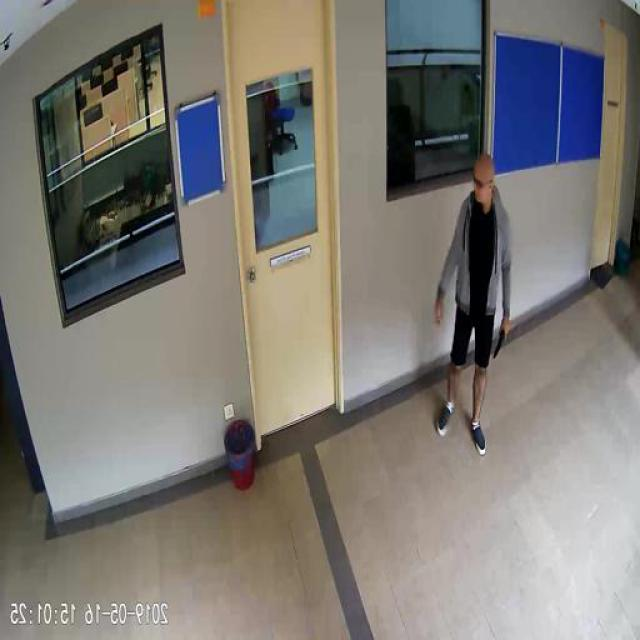Gun: (496, 322, 510, 357)
